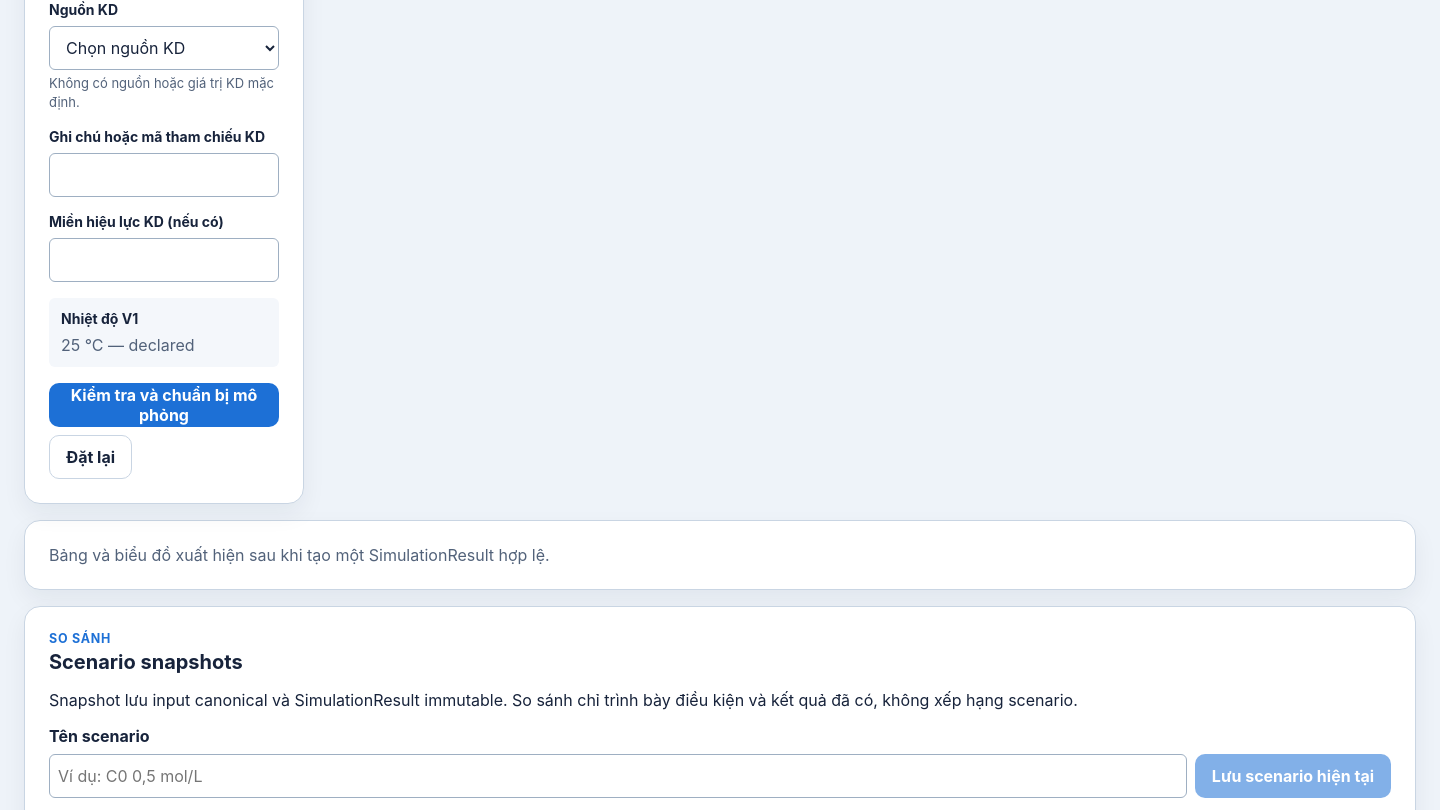
Phase 6 app shell and input UI › reports required errors, focuses an invalid field and preserves input
(page scrolled)
Click the button "Kiểm tra và chuẩn bị mô phỏng".
click(164, 405)  # box [49,383,279,427]
(page scrolled)
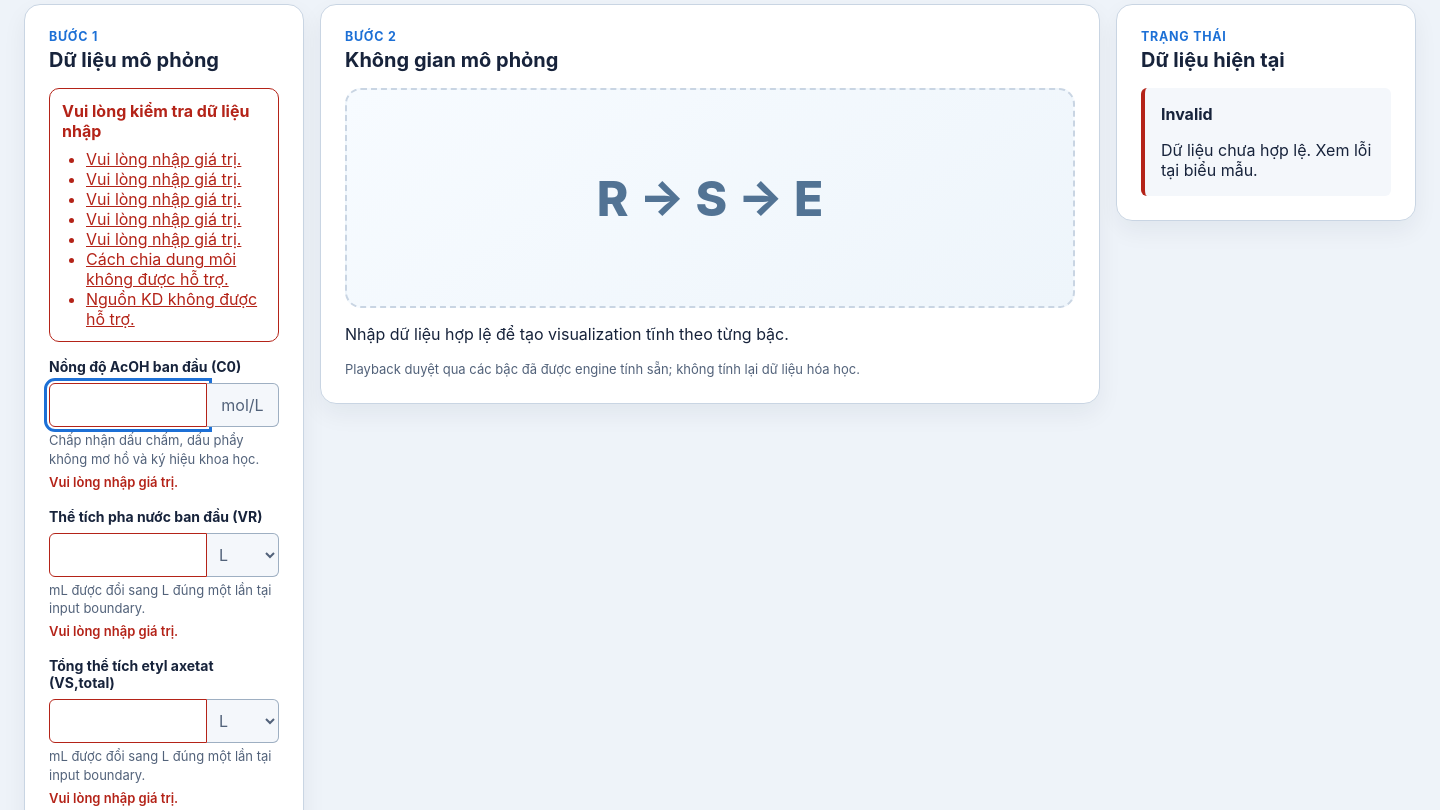
Check: the field labelled "Nồng độ AcOH ban đầu (C0)" is empty, box [49,383,207,427]
Check: the message shows "Vui lòng kiểm tra dữ liệu nhập", box [62,101,249,141]
Check: the element with test id "form-status" shows "Invalid", box [1161,104,1213,124]
